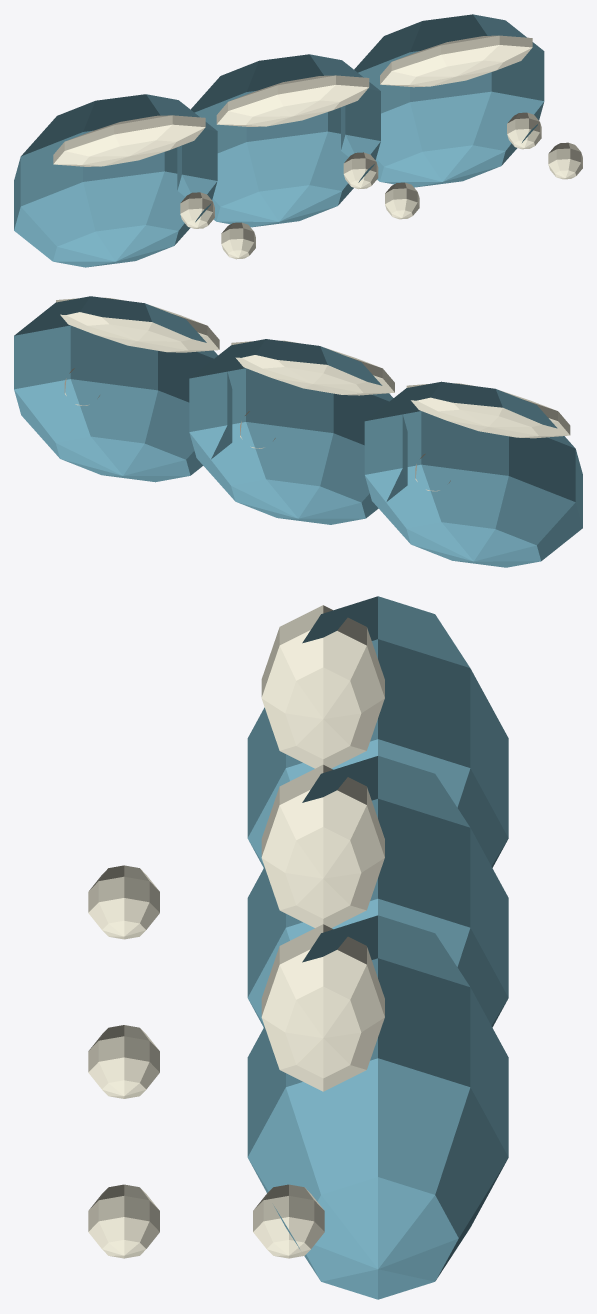
Rendered from tidal-wave-crest-mesh__273.glb.
The picture shows the model from 3 angles, top to bottom: view 1: azimuth 30°, elevation 25°; view 2: azimuth 150°, elevation 25°; view 3: azimuth 270°, elevation 25°; orthographic projection. The views are drawn at different scales.
Parts seen in each view (by area): view 1: tidal-observatory-wave-crest; view 2: tidal-observatory-wave-crest; view 3: tidal-observatory-wave-crest.
Part boxes in pixels (box(x1,y1,x2,y2)): tidal-observatory-wave-crest: box(14, 14, 582, 267); tidal-observatory-wave-crest: box(14, 296, 582, 567); tidal-observatory-wave-crest: box(88, 596, 508, 1299).
Size of the model in its own units: 1.78 by 0.52 by 0.6125.
